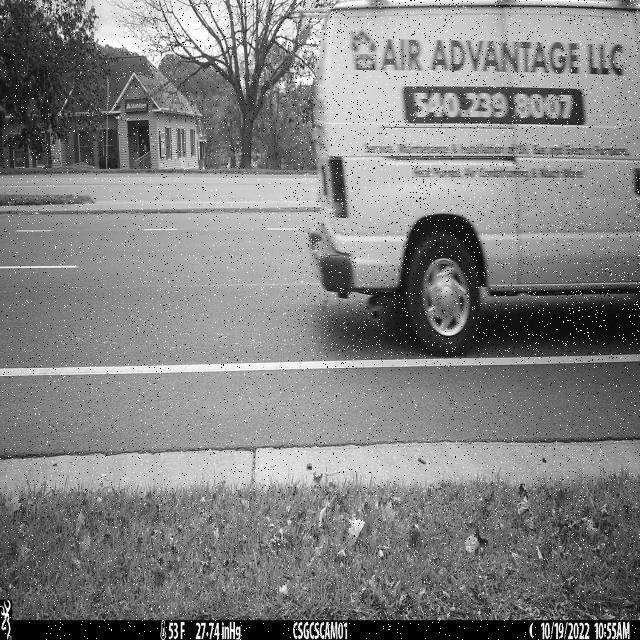Van: (294, 0, 640, 359)
